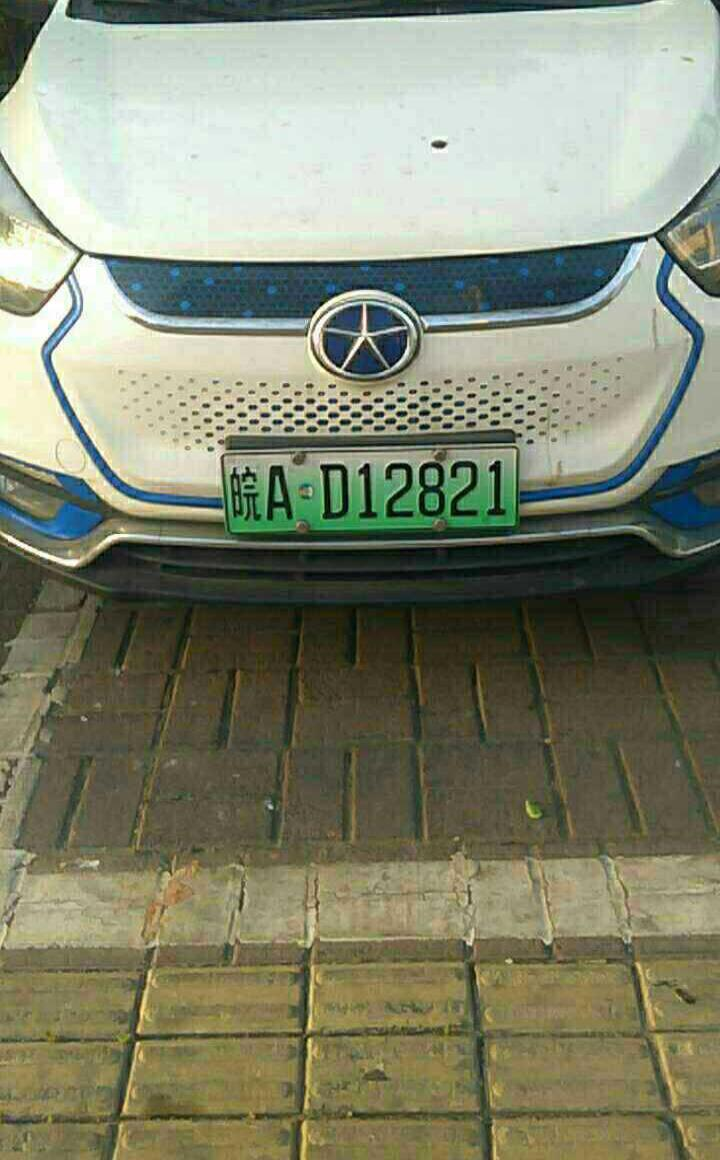car_id: (221, 445, 515, 530)
